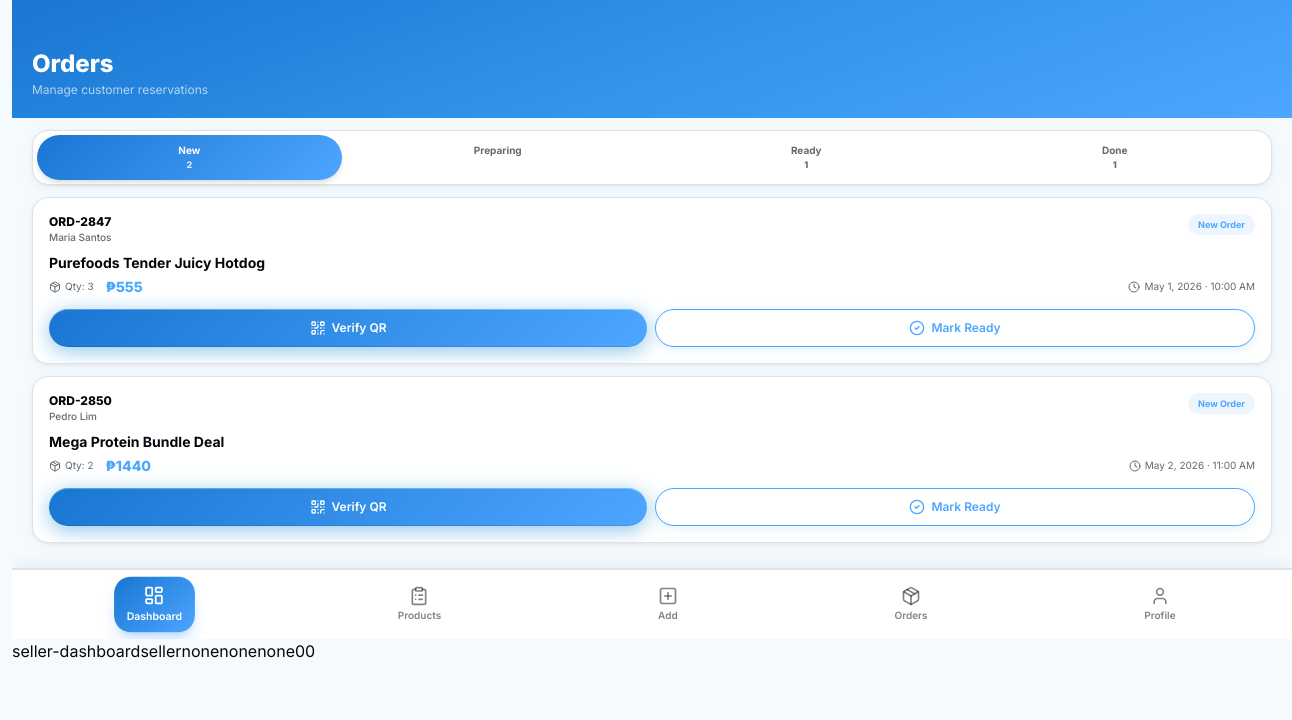
Test: rendered seller marketplace flow › renders seller orders and switches order tabs
Expected: the heading "Orders" is shown, [32, 49, 114, 78]
Expected: the text "ORD-2847" is shown, [49, 214, 112, 230]
Click the button "Ready 1" at [806, 157], box [654, 135, 958, 180]
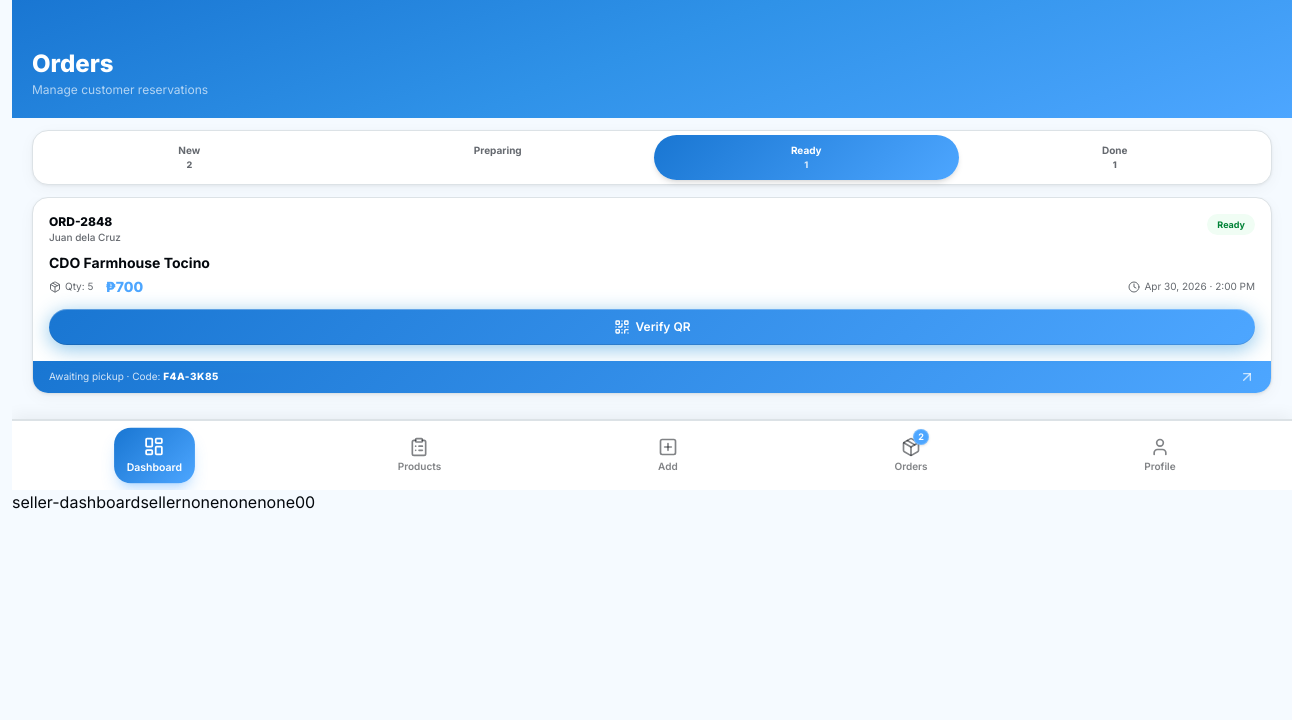
Expected: the text "ORD-2848" is shown, [49, 214, 121, 230]
Expected: the text "Juan dela Cruz" is shown, [49, 230, 121, 244]
Expected: the text "F4A-3K85" is shown, [163, 370, 219, 382]
